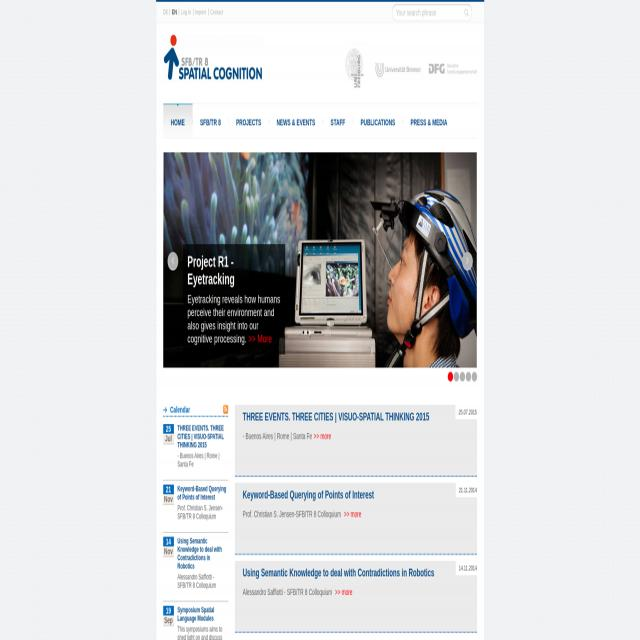button: (163, 152, 477, 368), (163, 35, 263, 83), (372, 42, 424, 98), (429, 42, 477, 98), (343, 42, 367, 98), (223, 405, 228, 414)
field: (392, 4, 472, 21)
